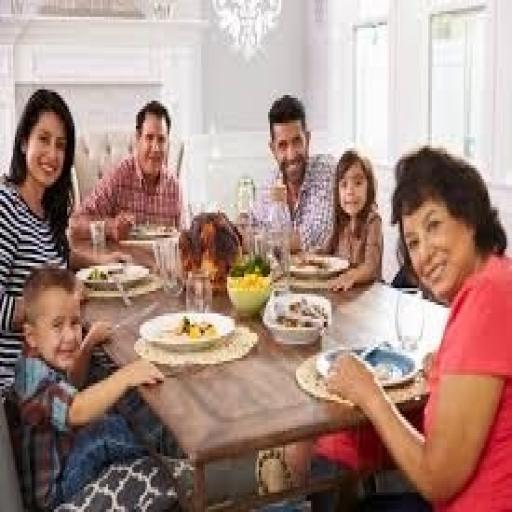eating: (0, 81, 510, 507)
